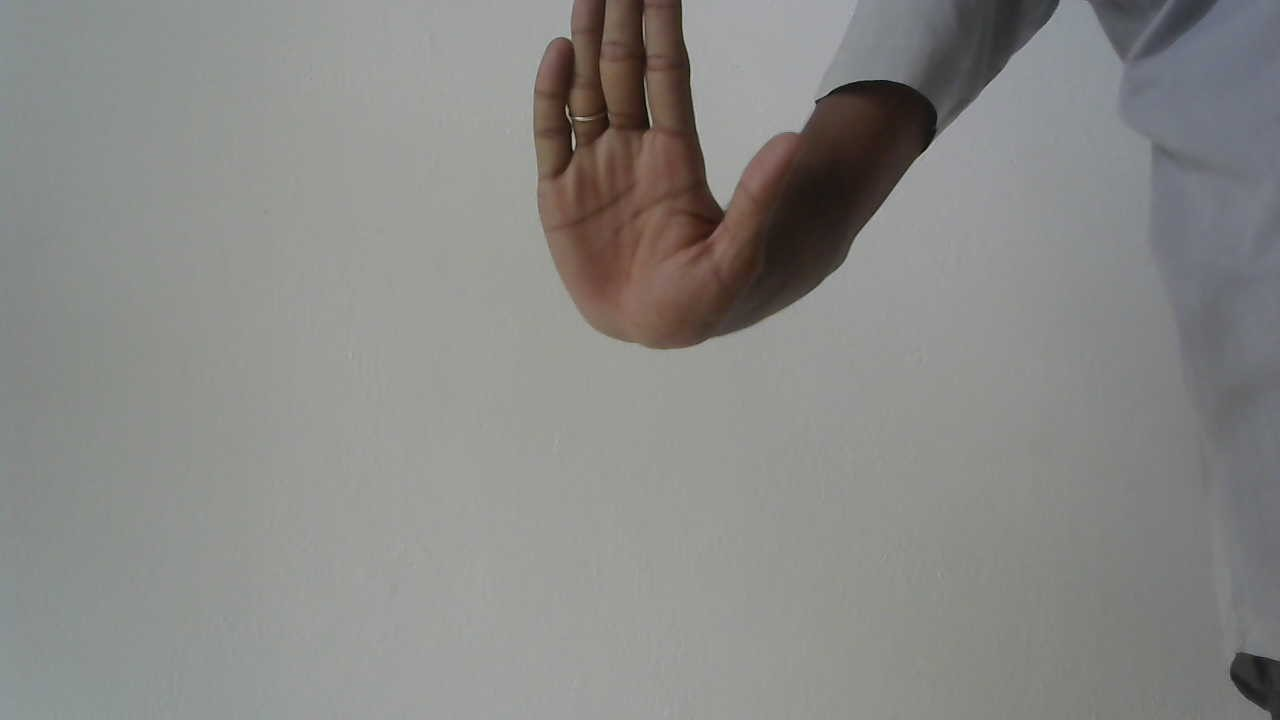hello: (503, 9, 814, 374)
